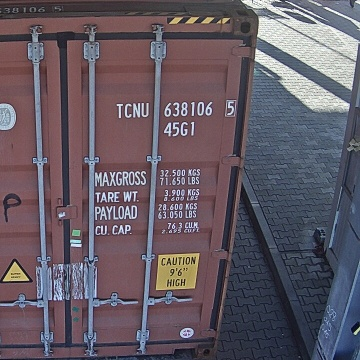serial_id: (116, 101, 234, 117)
